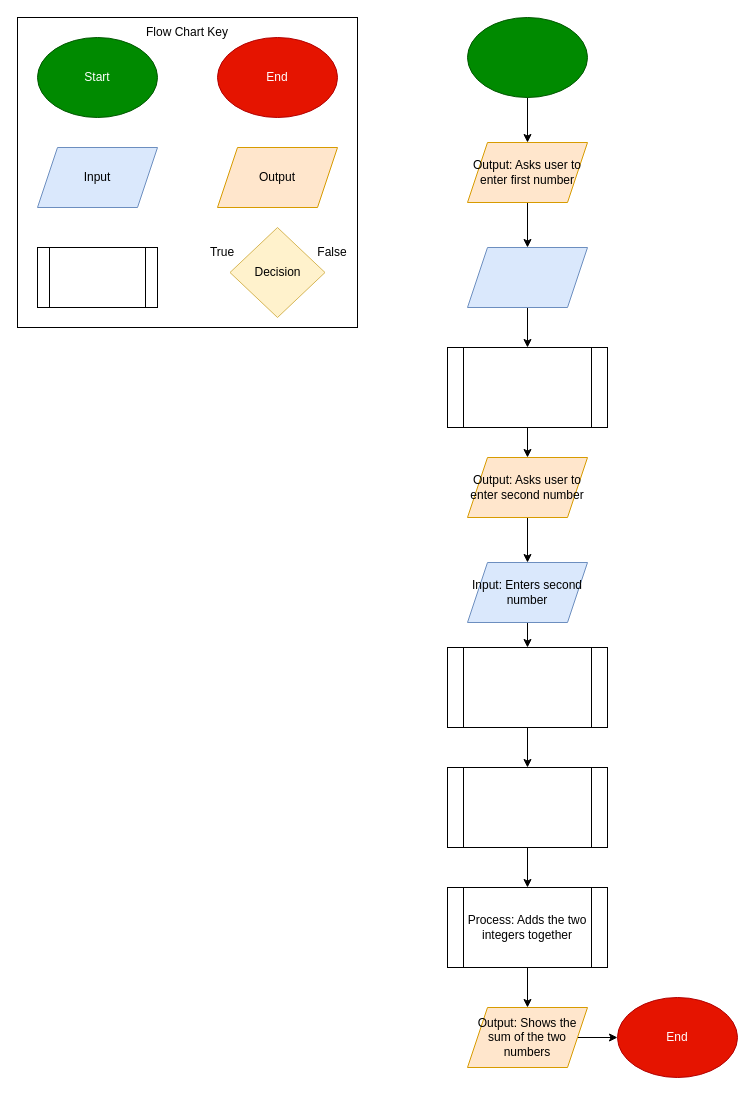
Some shapes in this 755 by 1095 pixel diagram are drawn without their labels. The centre of each missing label's shape, as x and y in pixels:
dotnet run: point (527, 57)
Input: Enters first number: point (527, 277)
Process: point (97, 277)
Process: Converts first and second numbers from strings into integers: point (527, 807)
Process: Saves first number as a string: point (527, 387)
Process: Saves second number as a string: point (527, 687)
